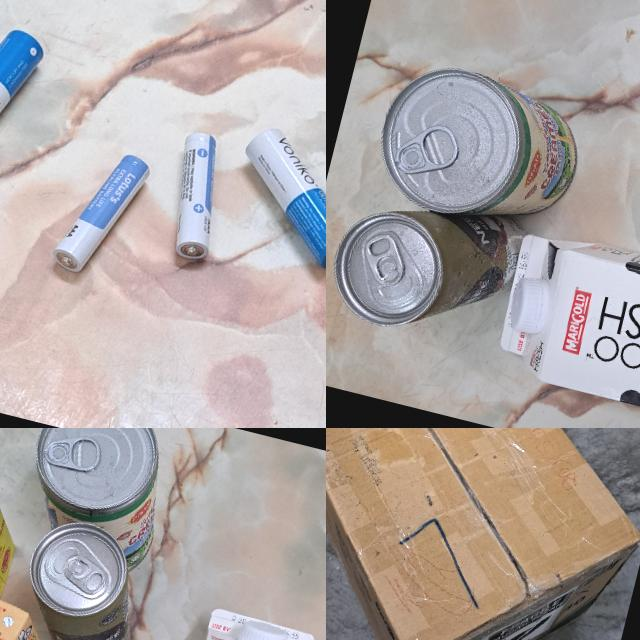aba de lata: (391, 114, 464, 186), (358, 226, 414, 288), (42, 428, 104, 475), (59, 552, 110, 596)
bateria: (221, 121, 326, 278), (48, 138, 154, 286), (153, 126, 238, 265), (0, 13, 49, 177)
caixinha: (487, 221, 640, 428), (0, 431, 37, 600)
lata: (368, 56, 592, 240), (326, 184, 525, 354), (12, 428, 184, 576), (5, 511, 155, 640)
papelão: (326, 428, 640, 640)
tampa plástica: (502, 270, 559, 338), (235, 618, 290, 640)
